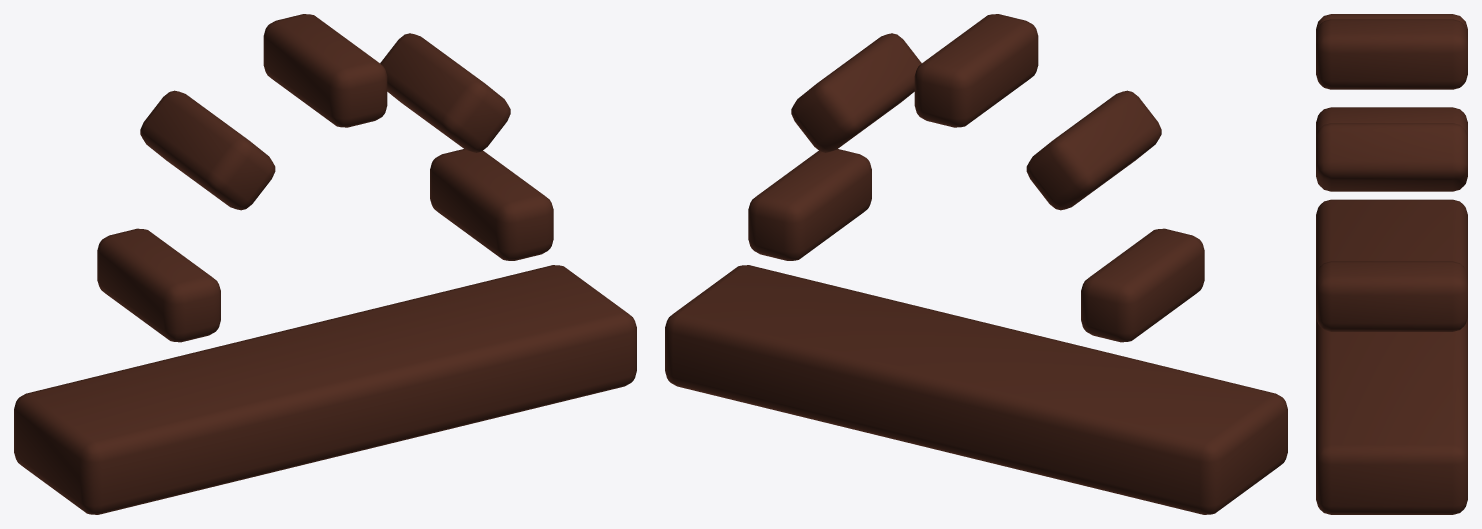
The model's file is BB_PROP_PipeBracket.obj.
3 renders of one model, left to right at view 1: azimuth 30°, elevation 25°; view 2: azimuth 150°, elevation 25°; view 3: azimuth 270°, elevation 25°, orthographic. The views are drawn at different scales.
Parts seen in each view (by area): view 1: BB_PROP_PipeBracket; view 2: BB_PROP_PipeBracket; view 3: BB_PROP_PipeBracket.
Part boxes in pixels (left/top/right/bottom): BB_PROP_PipeBracket: left=14, top=14, right=636, bottom=514; BB_PROP_PipeBracket: left=665, top=14, right=1287, bottom=514; BB_PROP_PipeBracket: left=1316, top=14, right=1467, bottom=514.
Size of the model in its own units: 0.4 by 0.265 by 0.1.
